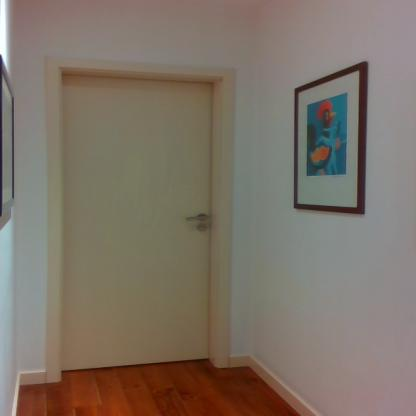door: (61, 75, 212, 360)
lever: (186, 214, 211, 221)
